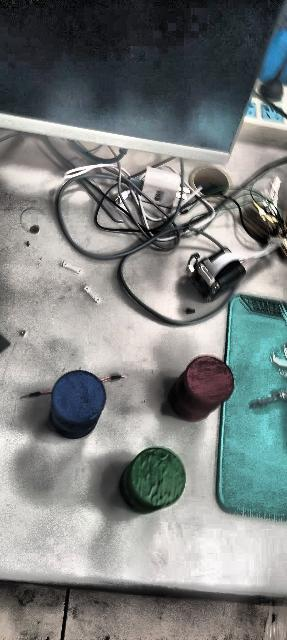blue: (46, 368, 124, 438)
green: (119, 446, 187, 514)
red: (171, 352, 239, 423)
